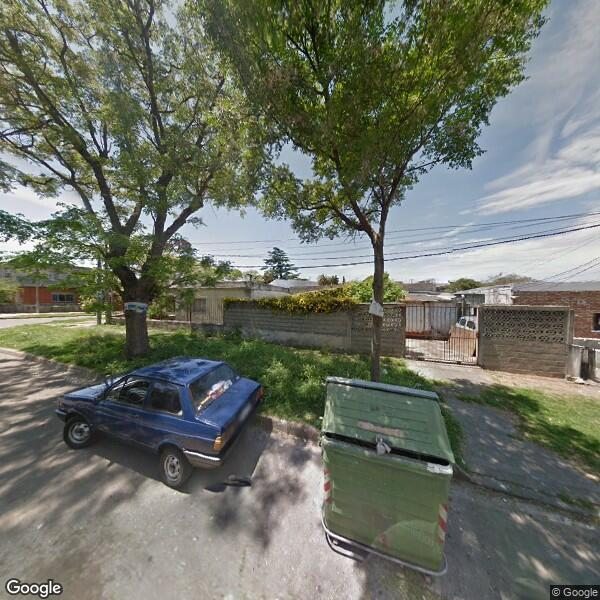Trash: (324, 372, 458, 584)
